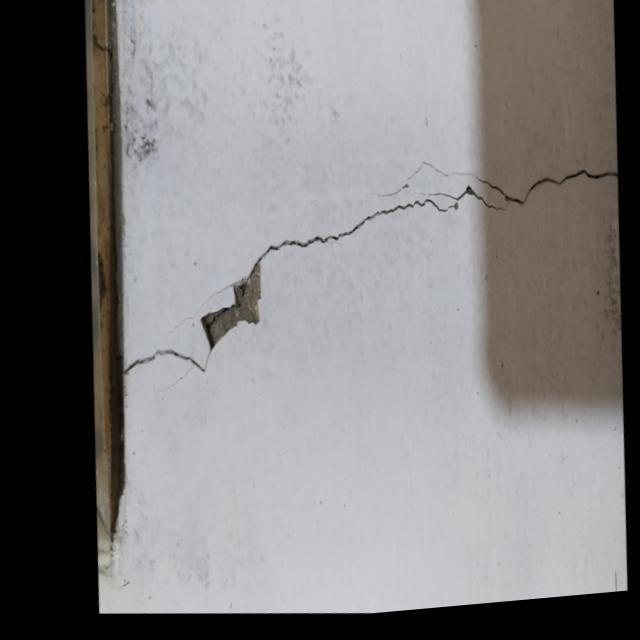Crack: (125, 170, 480, 381)
